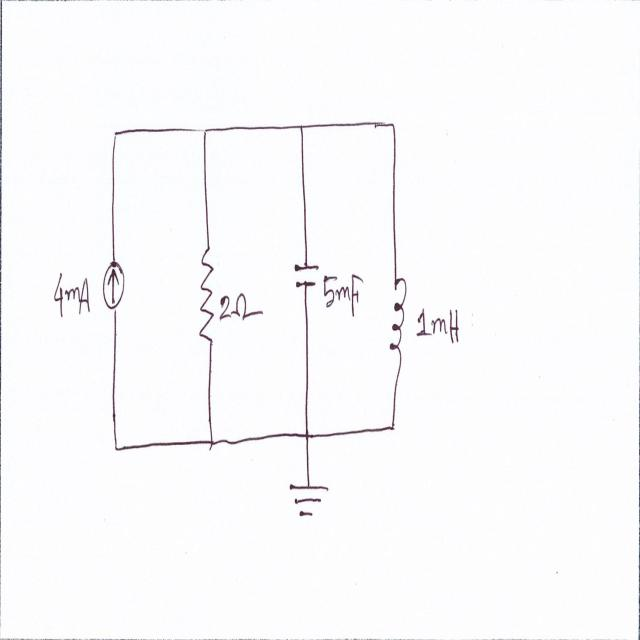capacitor: (292, 251, 322, 298)
current_source: (100, 249, 128, 321)
ground: (286, 468, 331, 525)
inductor: (387, 266, 409, 362)
resistor: (197, 233, 218, 357)
